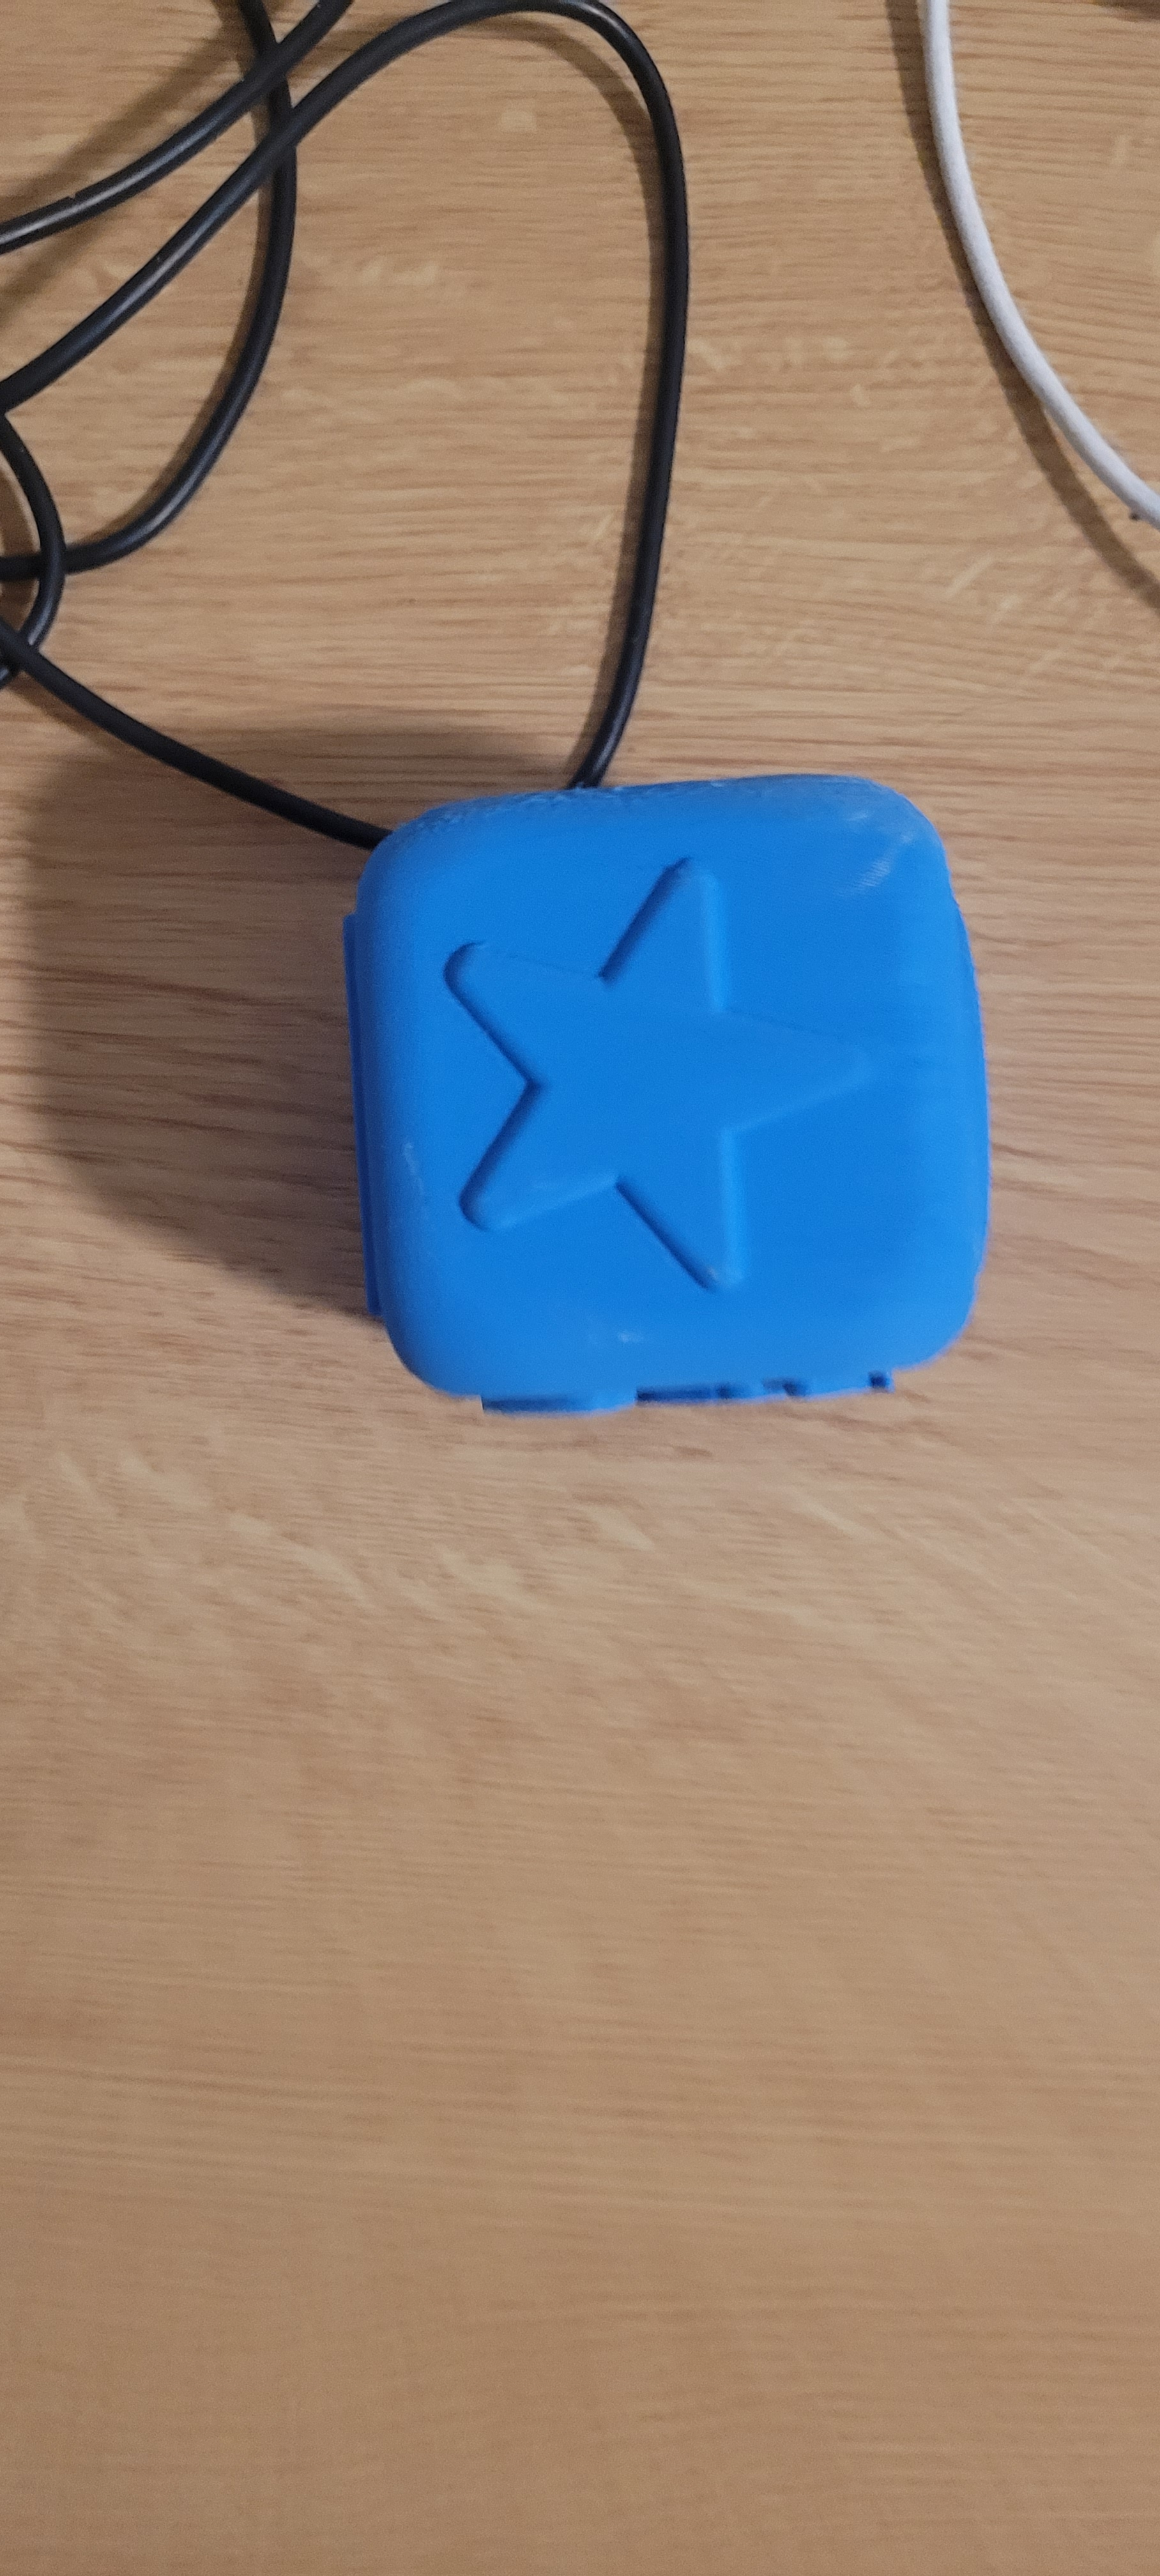Star: (370, 844, 927, 1327)
